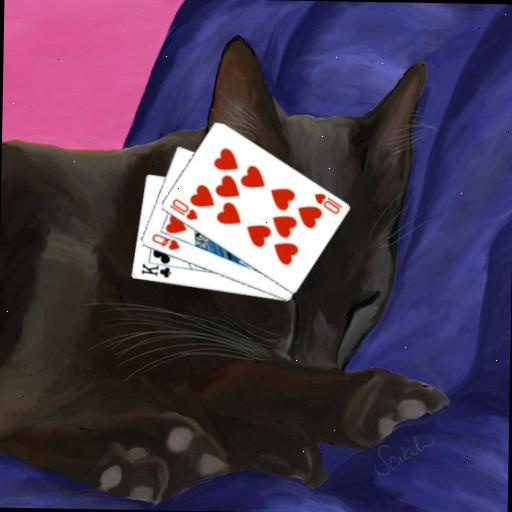10H: (310, 190, 344, 216), (167, 196, 200, 222)
KC: (139, 259, 177, 280)
QH: (148, 231, 181, 252)
